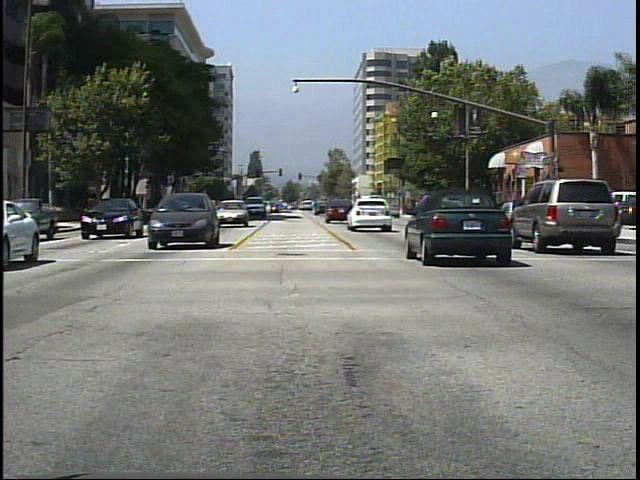person: (485, 189, 503, 225), (518, 195, 536, 230)
